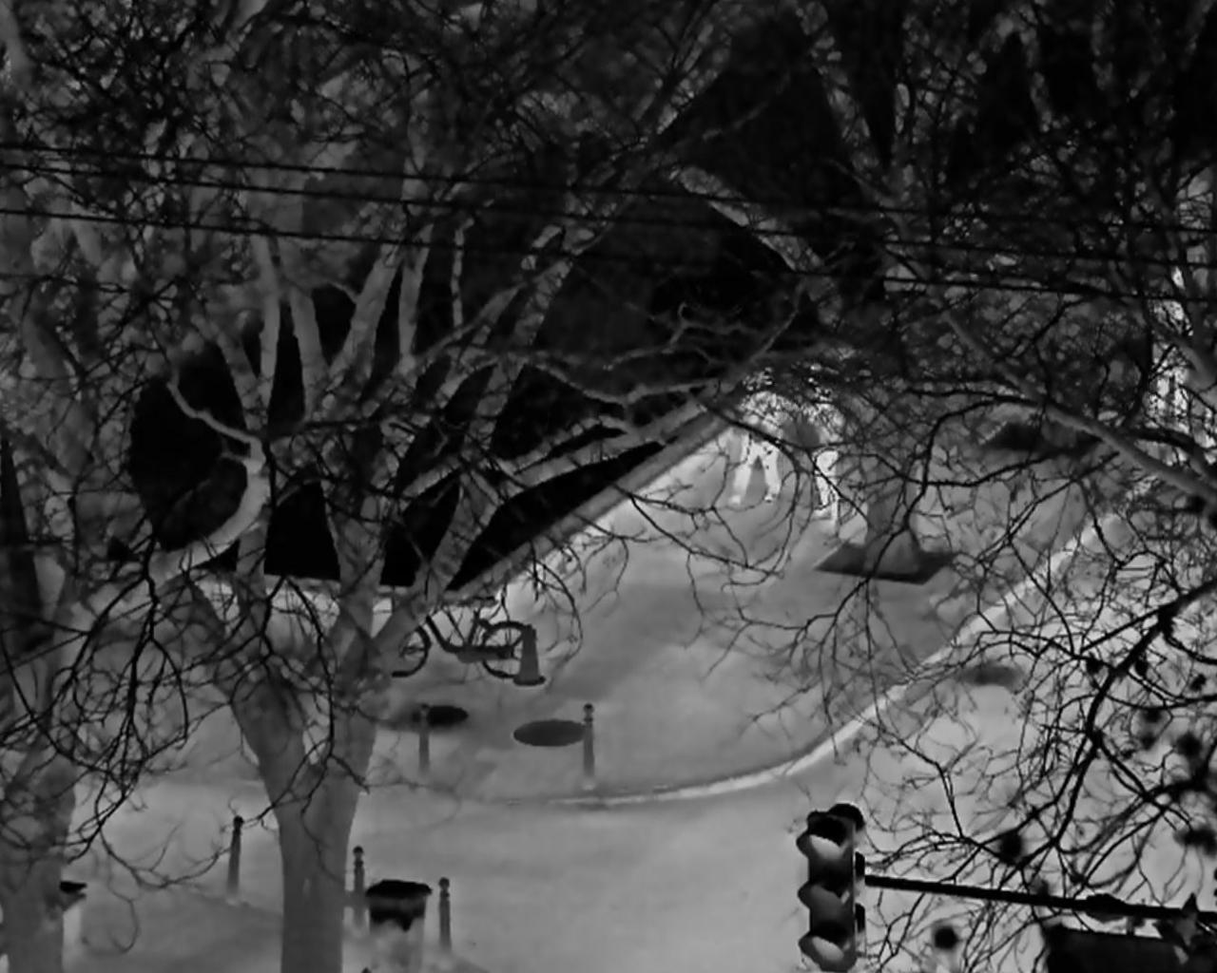person: (727, 388, 782, 507), (796, 404, 842, 520)
